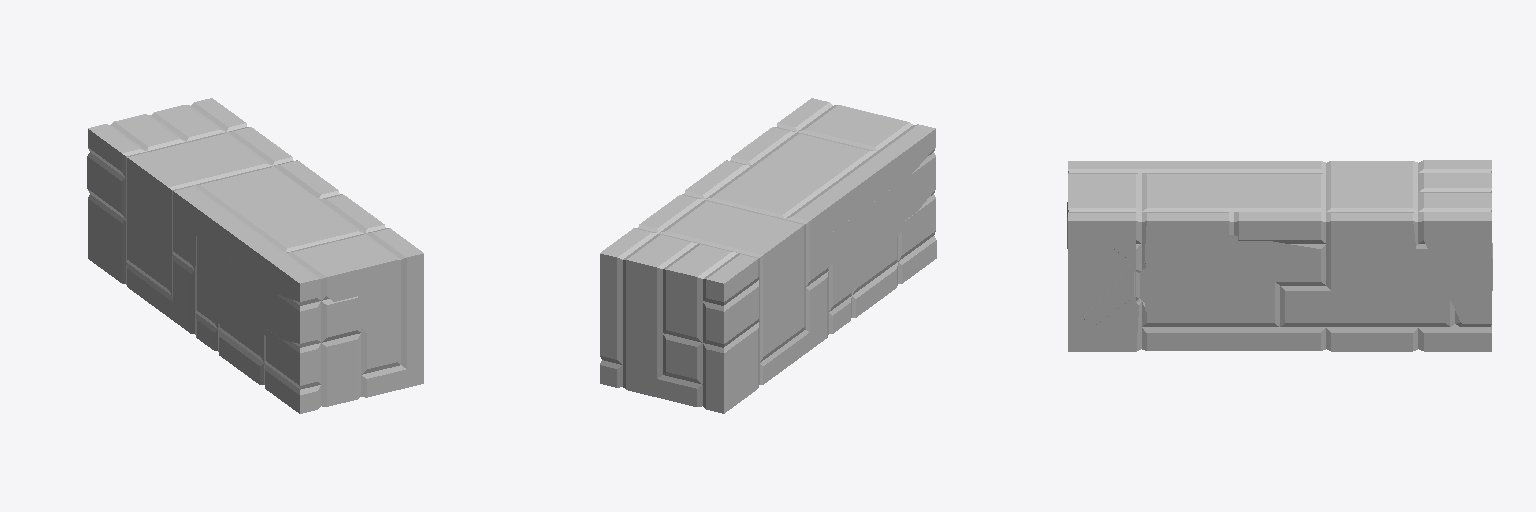
The model's file is Housing.obj.
3 renders of one model, left to right at view 1: azimuth 30°, elevation 25°; view 2: azimuth 150°, elevation 25°; view 3: azimuth 270°, elevation 25°, orthographic.
Visible parts, largest first — view 1: Cube; view 2: Cube; view 3: Cube.
Boxes of the visible parts, x1,y1,x2,y2 form: Cube: [87, 98, 423, 413]; Cube: [600, 98, 936, 413]; Cube: [1067, 160, 1492, 351].
Size of the model in its own units: 2.06 by 2.06 by 6.05.